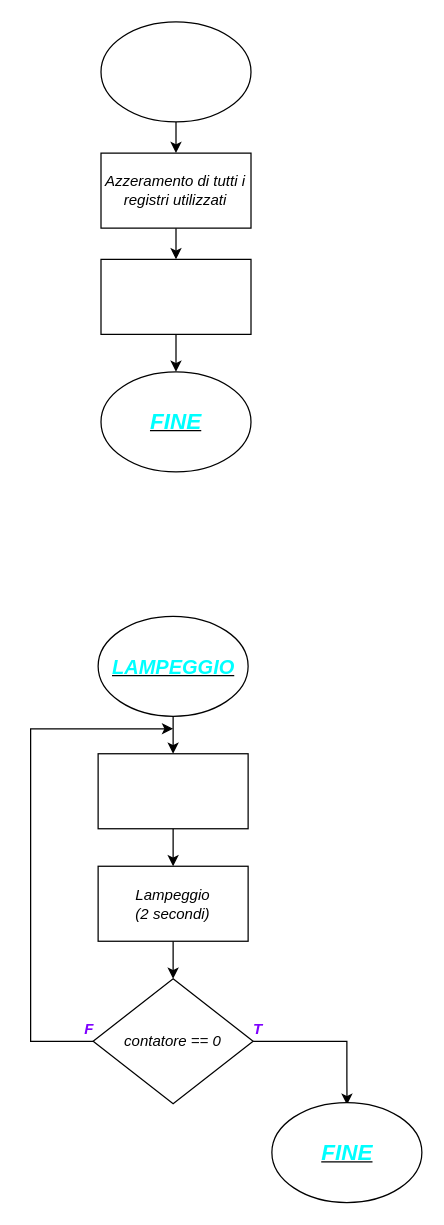
Some shapes in this 444 by 1225 pixel diagram are drawn without their labels. The box of each missing label's shape, as (x1, y1, x2, y2) in pixels:
Decremento del contatore del ritardo di 2 secondi: (97, 752, 248, 829)
END: (100, 21, 251, 122)
Verifica Comando: (100, 258, 251, 334)
